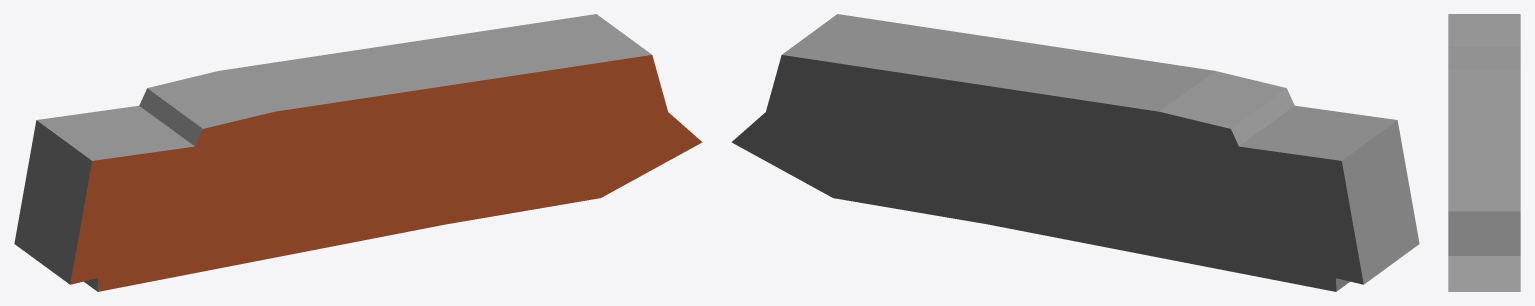
The model's file is construction_5308_assumed_A_Casa_h6m.obj.
3 renders of one model, left to right at view 1: azimuth 30°, elevation 25°; view 2: azimuth 150°, elevation 25°; view 3: azimuth 270°, elevation 25°, orthographic. The views are drawn at different scales.
Parts seen in each view (by area): view 1: construction_5308_assumed_A_Casa; view 2: construction_5308_assumed_A_Casa; view 3: construction_5308_assumed_A_Casa.
Boxes of the visible parts, <box> form: construction_5308_assumed_A_Casa: <box>14,14,702,291</box>; construction_5308_assumed_A_Casa: <box>731,14,1419,291</box>; construction_5308_assumed_A_Casa: <box>1448,14,1520,291</box>.
Size of the model in its own units: 39.24 by 9.85 by 6.
